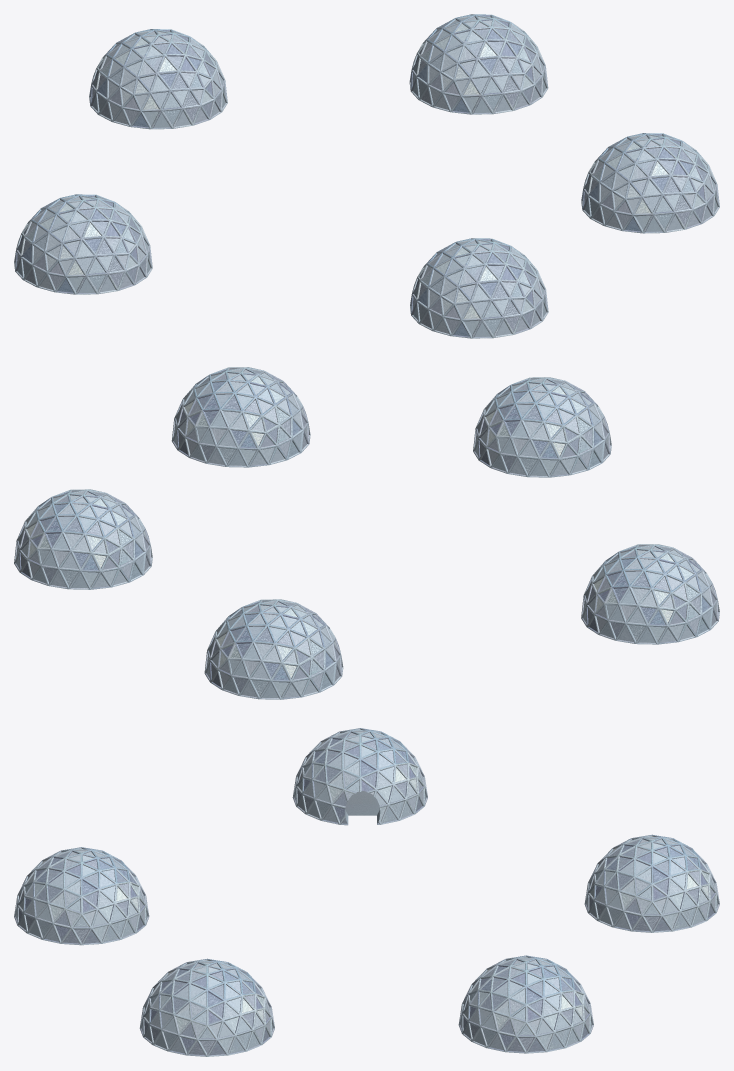
File: domos.obj
3 renders of one model, top to bottom at view 1: azimuth 30°, elevation 25°; view 2: azimuth 150°, elevation 25°; view 3: azimuth 270°, elevation 25°, orthographic. The views are drawn at different scales.
Parts seen in each view (by area): view 1: domos:Meshpasted__pasted__pasted__grouppasted__pasted__group2pas, polySurface144, domos:Meshpasted__groupgroup1, domos:Meshpasted__pasted__grouppasted__group2group3, domos:Meshgroup; view 2: domos:Meshpasted__groupgroup1, domos:Meshgroup, domos:Meshpasted__pasted__pasted__grouppasted__pasted__group2pas, polySurface144, domos:Meshpasted__pasted__grouppasted__group2group3; view 3: domos:Meshpasted__groupgroup1, domos:Meshpasted__pasted__grouppasted__group2group3, domos:Meshpasted__pasted__pasted__grouppasted__pasted__group2pas, domos:Meshgroup, polySurface144.
Boxes of the visible parts, left/top/right/bottom form: domos:Meshpasted__pasted__pasted__grouppasted__pasted__group2pas: left=409, top=14, right=548, bottom=114; polySurface144: left=14, top=194, right=152, bottom=294; domos:Meshpasted__groupgroup1: left=410, top=238, right=548, bottom=338; domos:Meshpasted__pasted__grouppasted__group2group3: left=581, top=133, right=719, bottom=233; domos:Meshgroup: left=89, top=29, right=227, bottom=129; domos:Meshpasted__groupgroup1: left=473, top=377, right=611, bottom=477; domos:Meshgroup: left=204, top=599, right=343, bottom=699; domos:Meshpasted__pasted__pasted__grouppasted__pasted__group2pas: left=14, top=489, right=152, bottom=589; polySurface144: left=581, top=544, right=719, bottom=644; domos:Meshpasted__pasted__grouppasted__group2group3: left=171, top=367, right=310, bottom=467; domos:Meshpasted__groupgroup1: left=14, top=847, right=149, bottom=945; domos:Meshpasted__pasted__grouppasted__group2group3: left=139, top=958, right=274, bottom=1056; domos:Meshpasted__pasted__pasted__grouppasted__pasted__group2pas: left=458, top=955, right=593, bottom=1053; domos:Meshgroup: left=584, top=834, right=719, bottom=932; polySurface144: left=292, top=728, right=427, bottom=825.
Size of the model in its own units: 191 by 19.7 by 198.
2 materials, 2 textured.
